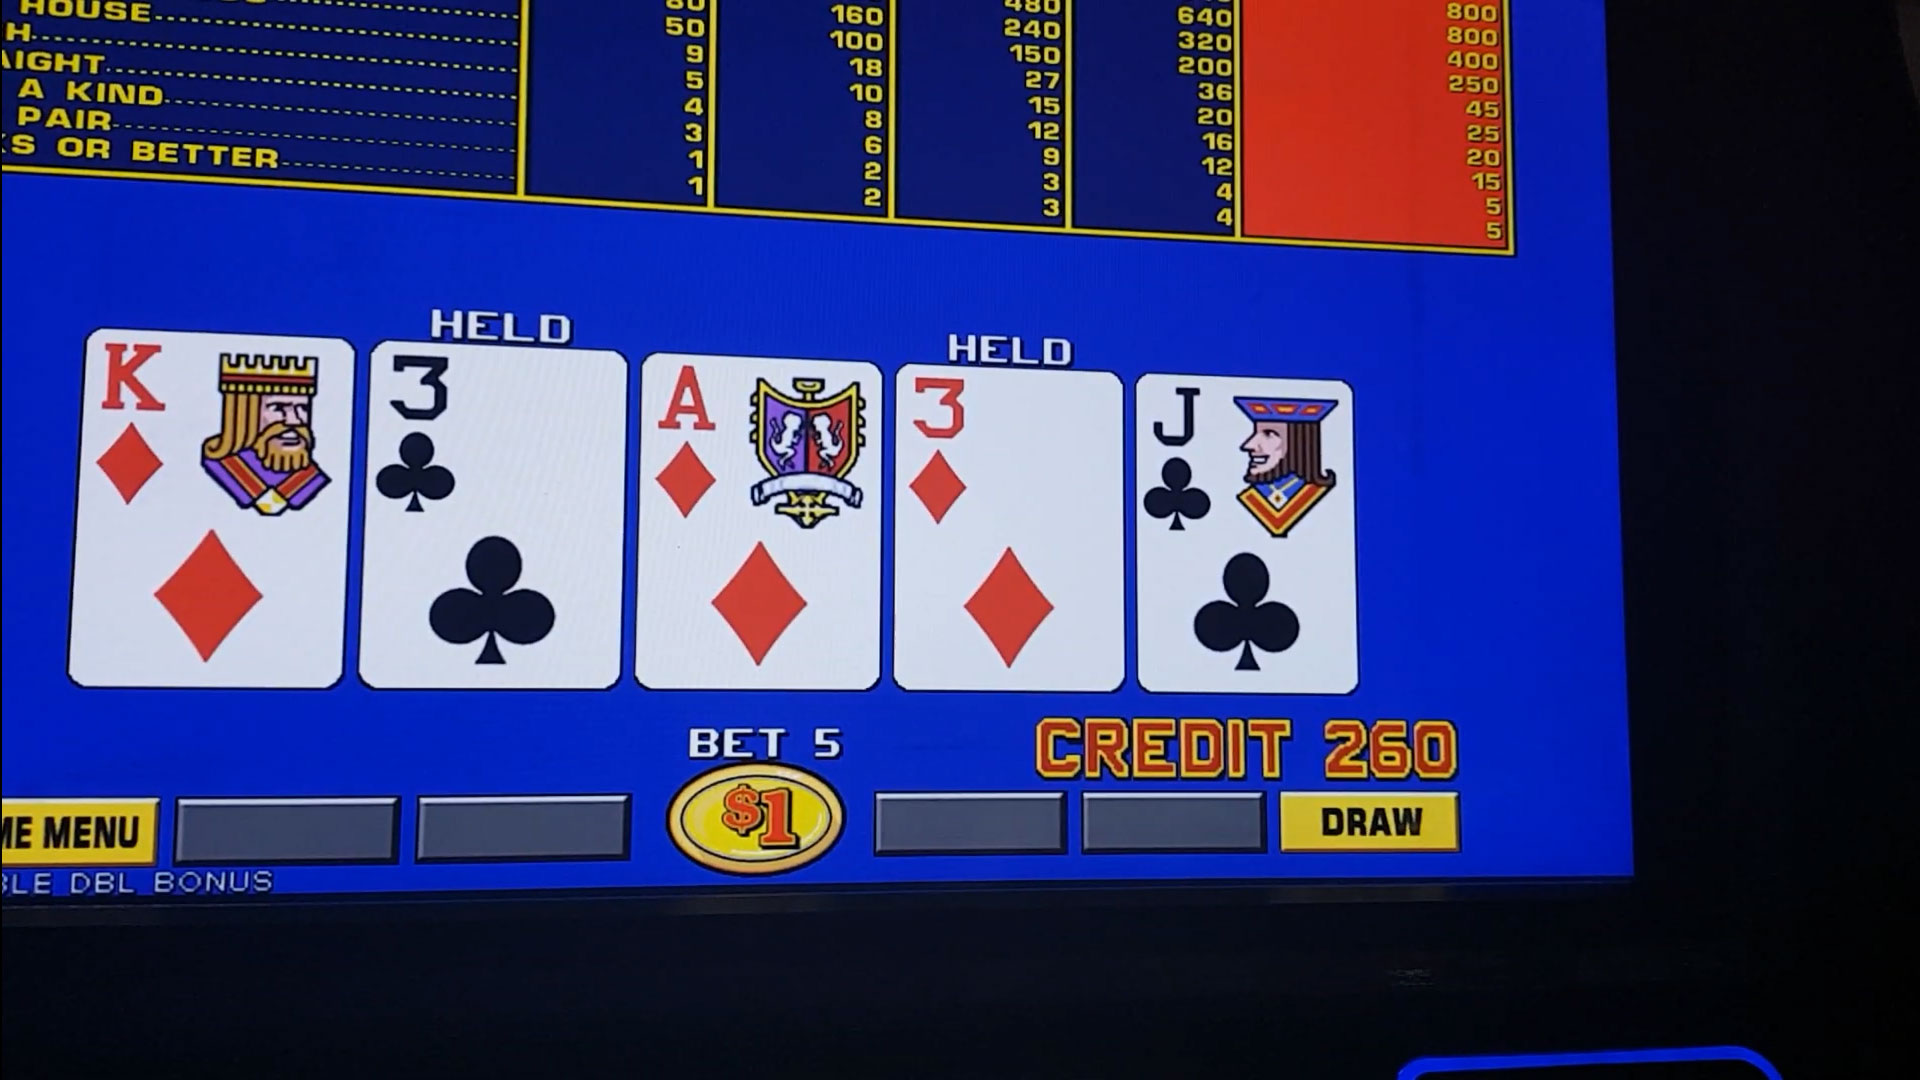C3: (373, 351, 621, 524)
CJ: (1139, 382, 1344, 547)
D3: (895, 378, 1120, 541)
DA: (646, 364, 880, 534)
DK: (94, 342, 347, 518)
